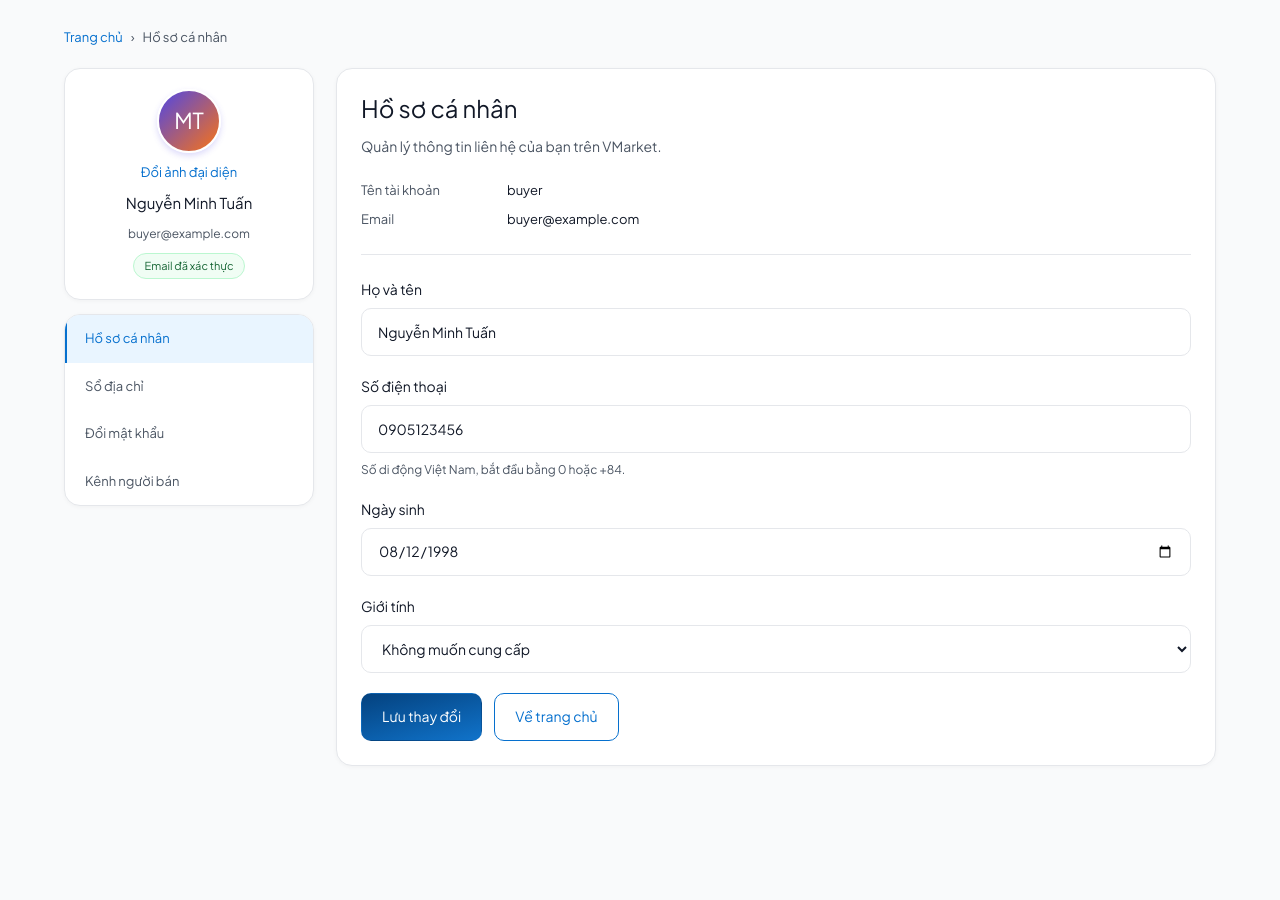
it: Change avatar dialog › hides Xóa ảnh when there is no picture yet
Click the button "Đổi ảnh đại diện".
click(189, 172)  # box [141,162,237,182]
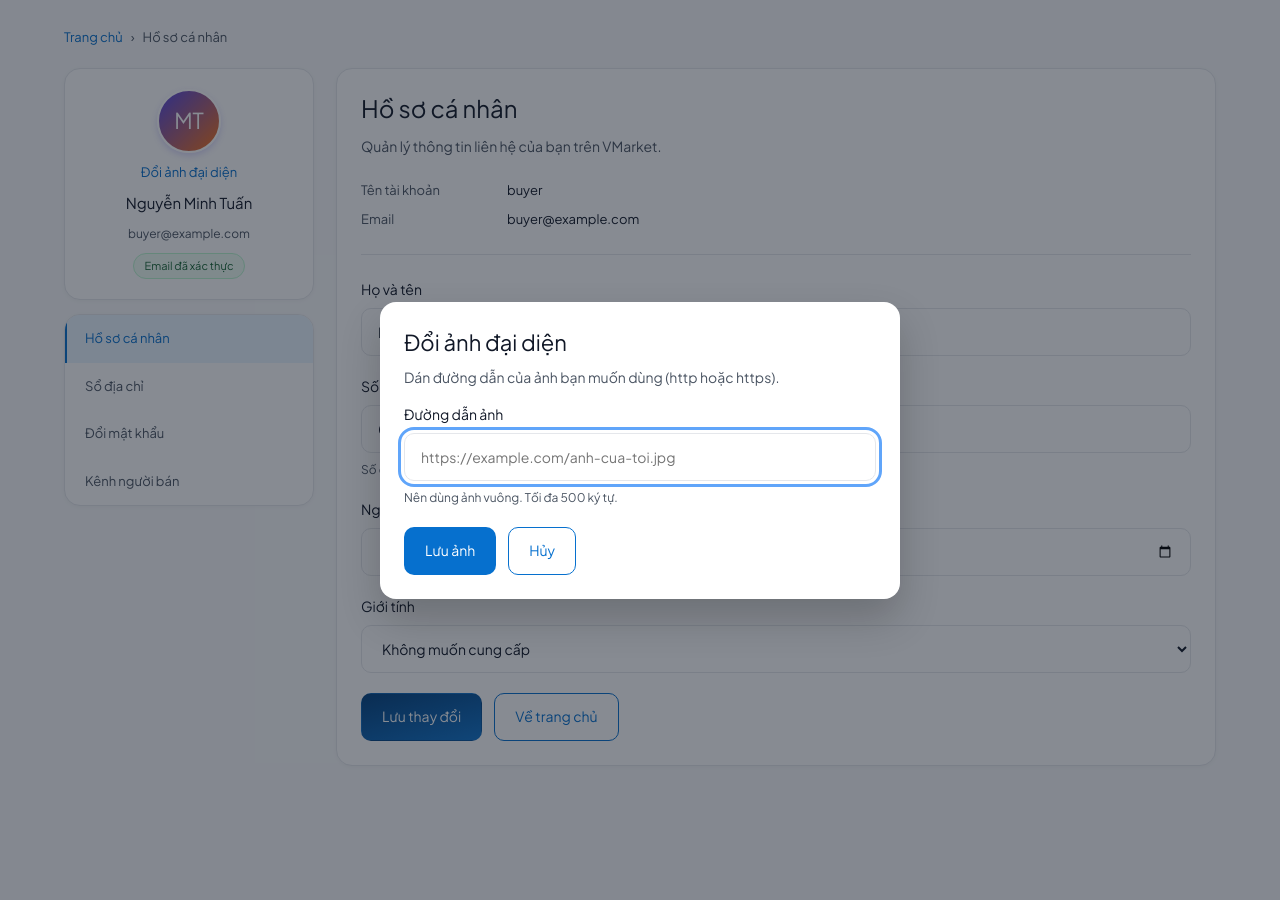
Result: the dialog is shown at [380,302,900,598]
Result: the field labelled "Đường dẫn ảnh" is empty at [404,432,876,480]
